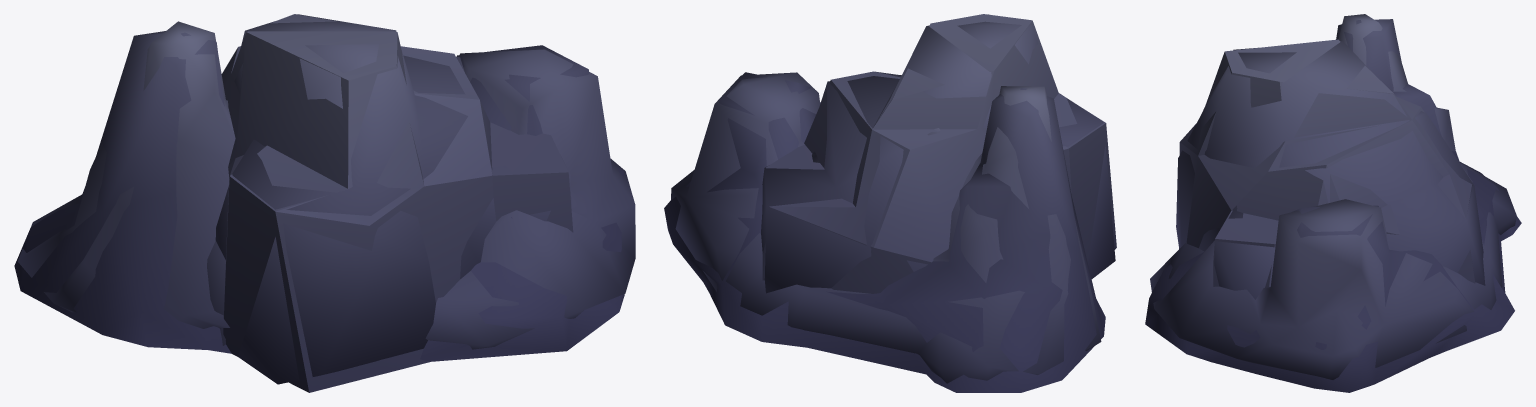
The model's file is Stage3_Black rock_Lowpoly.fbx.
3 renders of one model, left to right at view 1: azimuth 30°, elevation 25°; view 2: azimuth 150°, elevation 25°; view 3: azimuth 270°, elevation 25°, orthographic. The views are drawn at different scales.
Visible parts, largest first — view 1: Cube.002, Cube.009__retopo, Cube.002_retopo, Cube.001__retopo, Cube.004__retopo; view 2: Cube.001__retopo, Cube.009__retopo, Cube.002, Cube.002_retopo; view 3: Cube.009__retopo, Cube.002_retopo, Cube.002, Cube.001__retopo.
Boxes of the visible parts, x1,y1,x2,y2 form: Cube.002: (221, 14, 573, 392); Cube.009__retopo: (17, 21, 635, 349); Cube.002_retopo: (215, 14, 571, 384); Cube.001__retopo: (14, 31, 624, 361); Cube.004__retopo: (207, 241, 225, 328); Cube.001__retopo: (664, 72, 1105, 392); Cube.009__retopo: (671, 72, 1101, 383); Cube.002: (762, 14, 1116, 293); Cube.002_retopo: (761, 14, 1115, 293); Cube.009__retopo: (1150, 14, 1516, 379); Cube.002_retopo: (1176, 41, 1485, 299); Cube.002: (1179, 39, 1475, 287); Cube.001__retopo: (1145, 19, 1521, 392).
Size of the model in its own units: 25 by 12.28 by 19.7.
